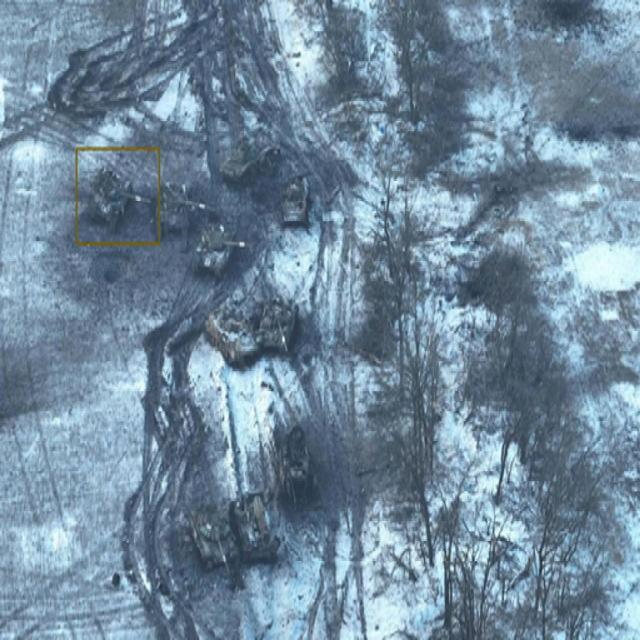APC-IFV: (228, 489, 282, 569), (202, 298, 252, 373), (275, 420, 317, 498), (279, 162, 316, 234), (222, 127, 272, 180)
TANK: (182, 493, 238, 587), (85, 160, 154, 236), (156, 173, 214, 249), (191, 220, 249, 282), (255, 282, 296, 364)
